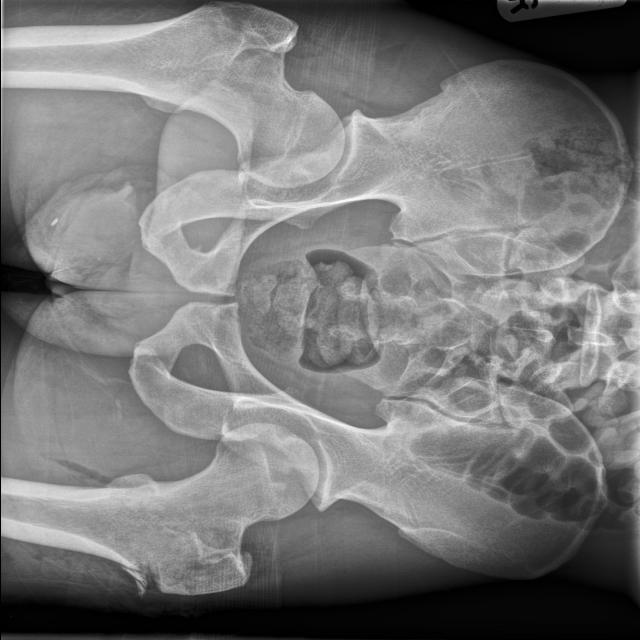left-grater-trochanter: (0, 423, 318, 596), (121, 567, 146, 597)
normal-right: (0, 1, 344, 188)
